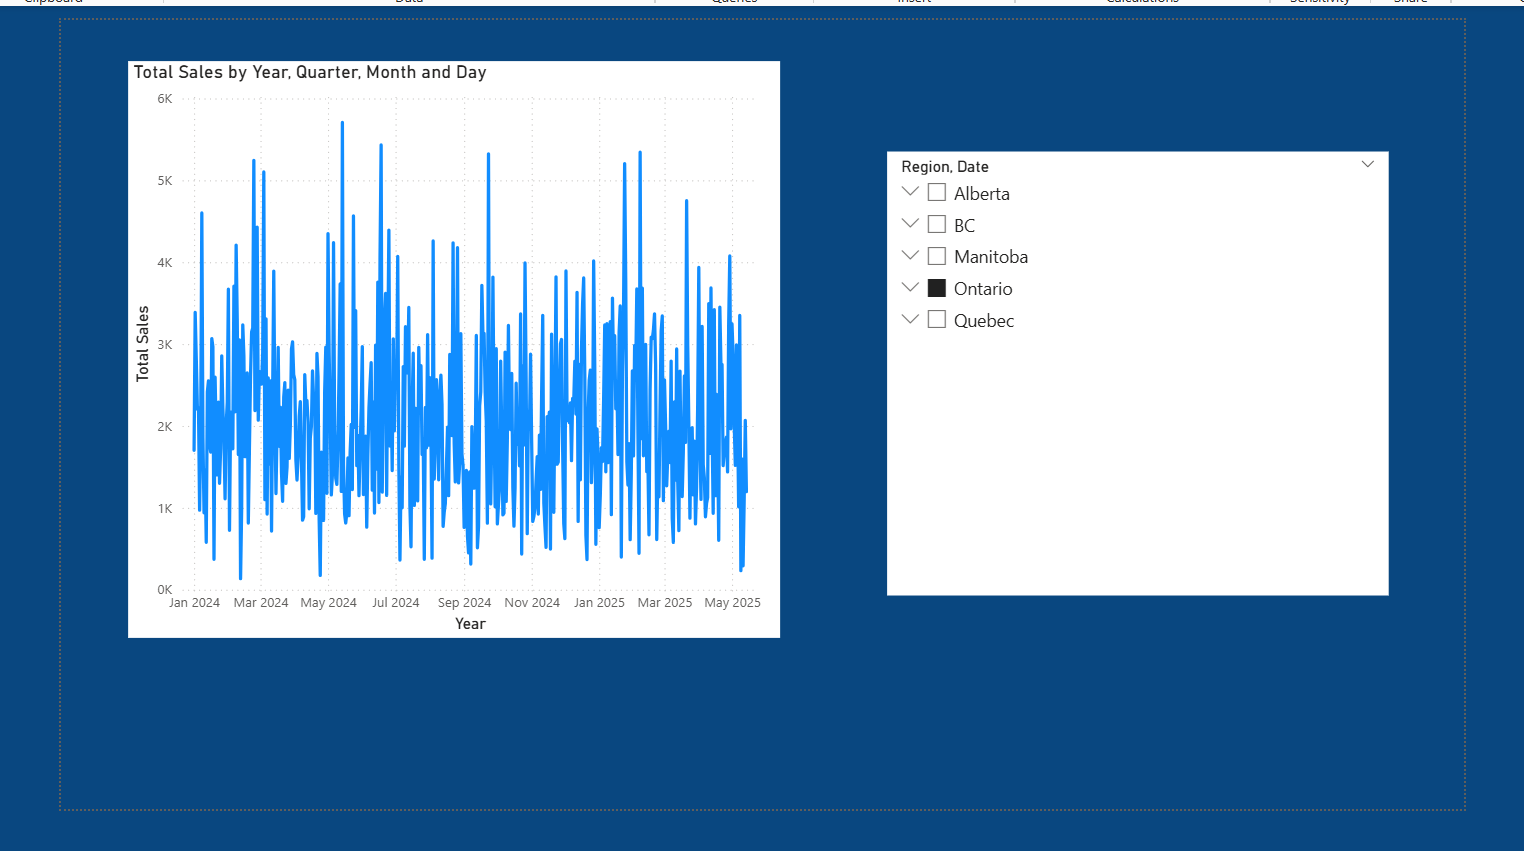

Layout of this report page (visuals, bound fields, positions):
{"tool":"powerbi","page":{"name":"Page 1","canvas":[1280,720],"ordinal":0},"visuals":[{"type":"lineChart","fields":{"Y":["customers.Total Sales"],"Category":["sales.Date.Variation.Date Hierarchy.Year","sales.Date.Variation.Date Hierarchy.Quarter","sales.Date.Variation.Date Hierarchy.Month","sales.Date.Variation.Date Hierarchy.Day"]},"box":[61.2,37.5,595,526.2],"z":2},{"type":"slicer","fields":{"Values":["sales.Region","sales.Date"]},"box":[753.8,120,457.5,405],"z":3}]}

Visuals, with their boxes on the page's 1280x720 design canvas (x1, y1, x2, y2). These are canvas units, not pixel positions in the 1524x851 screenshot, which may show the page scaled, cropped or inside an application window:
lineChart - customers.Total Sales x sales.Date.Variation.Date Hierarchy.Year: bbox=(61, 38, 656, 564)
slicer - sales.Region x sales.Date: bbox=(754, 120, 1211, 525)
